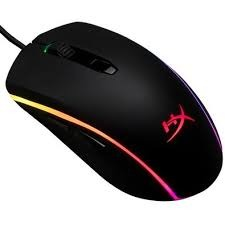mouse: (2, 23, 223, 203)
